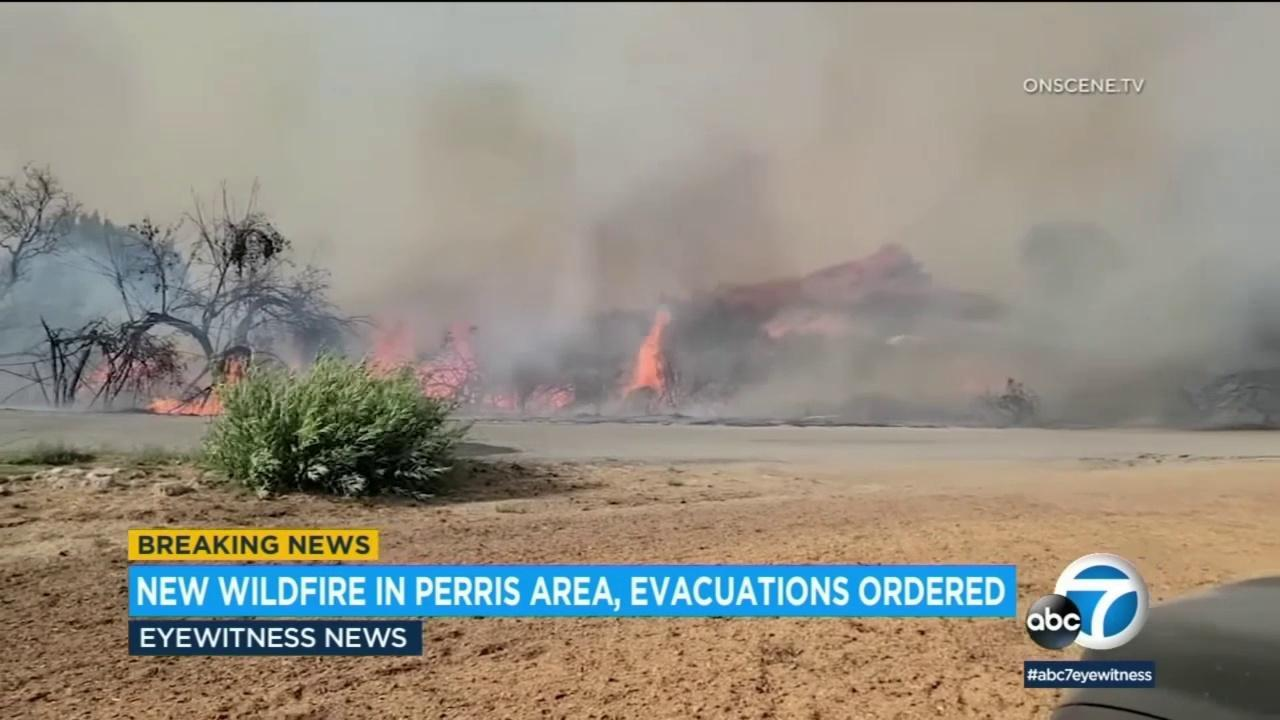fire: (373, 317, 476, 400), (148, 353, 245, 414), (618, 306, 671, 402), (80, 351, 159, 390), (482, 380, 577, 410)
smoke: (0, 4, 1280, 430)
